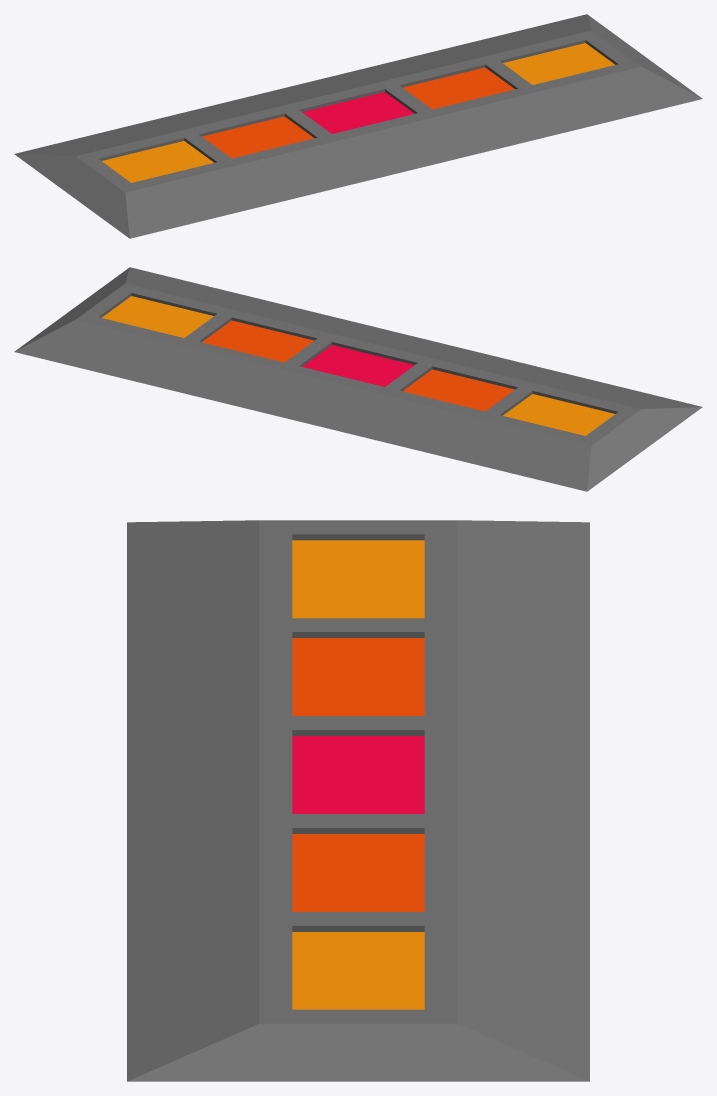
File: Rollover_0.fbx
3 renders of one model, top to bottom at view 1: azimuth 30°, elevation 25°; view 2: azimuth 150°, elevation 25°; view 3: azimuth 270°, elevation 25°, orthographic. The views are drawn at different scales.
Parts seen in each view (by area): view 1: Rollover_0; view 2: Rollover_0; view 3: Rollover_0.
Boxes of the visible parts, <box> form: Rollover_0: <box>14,14,702,238</box>; Rollover_0: <box>14,267,702,491</box>; Rollover_0: <box>127,520,589,1081</box>.
Size of the model in its own units: 40 by 1 by 14.
